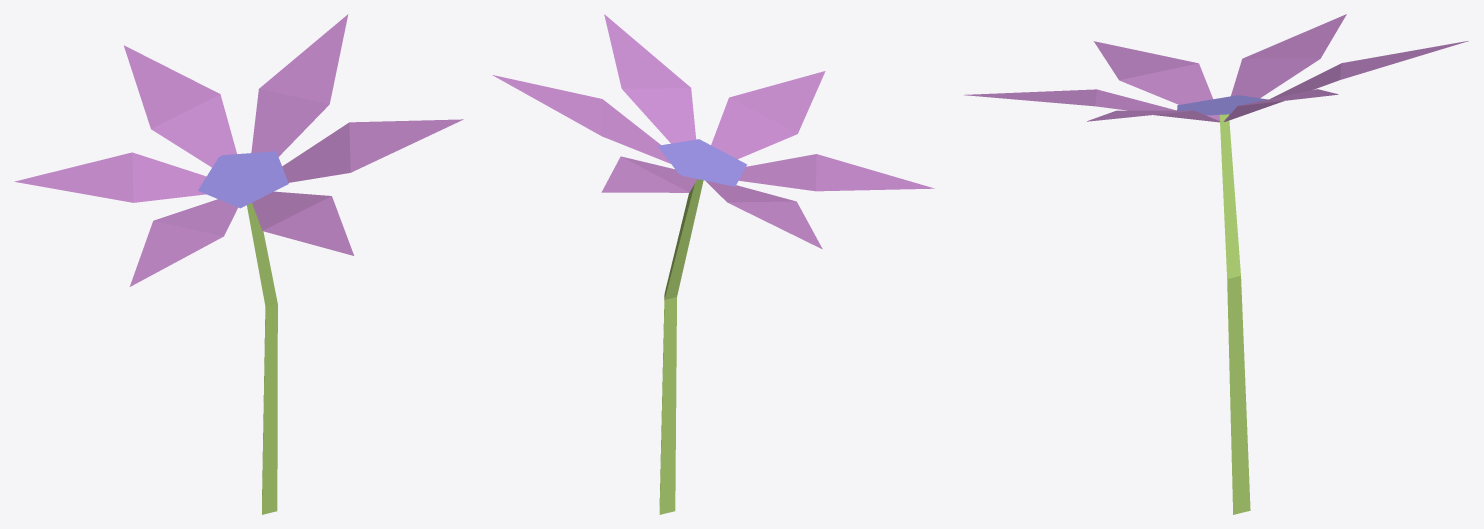
The model's file is Flower_b_TwoS_02.fbx.
3 renders of one model, left to right at view 1: azimuth 30°, elevation 25°; view 2: azimuth 150°, elevation 25°; view 3: azimuth 270°, elevation 25°, orthographic. The views are drawn at different scales.
Visible parts, largest first — view 1: Flower_b_TwoS_02; view 2: Flower_b_TwoS_02; view 3: Flower_b_TwoS_02.
Boxes of the visible parts, box(x1,y1,x2,y2) form: Flower_b_TwoS_02: box(14, 14, 463, 514); Flower_b_TwoS_02: box(492, 14, 934, 514); Flower_b_TwoS_02: box(964, 14, 1468, 514).
Size of the model in its own units: 0.3337 by 0.4154 by 0.3929.
